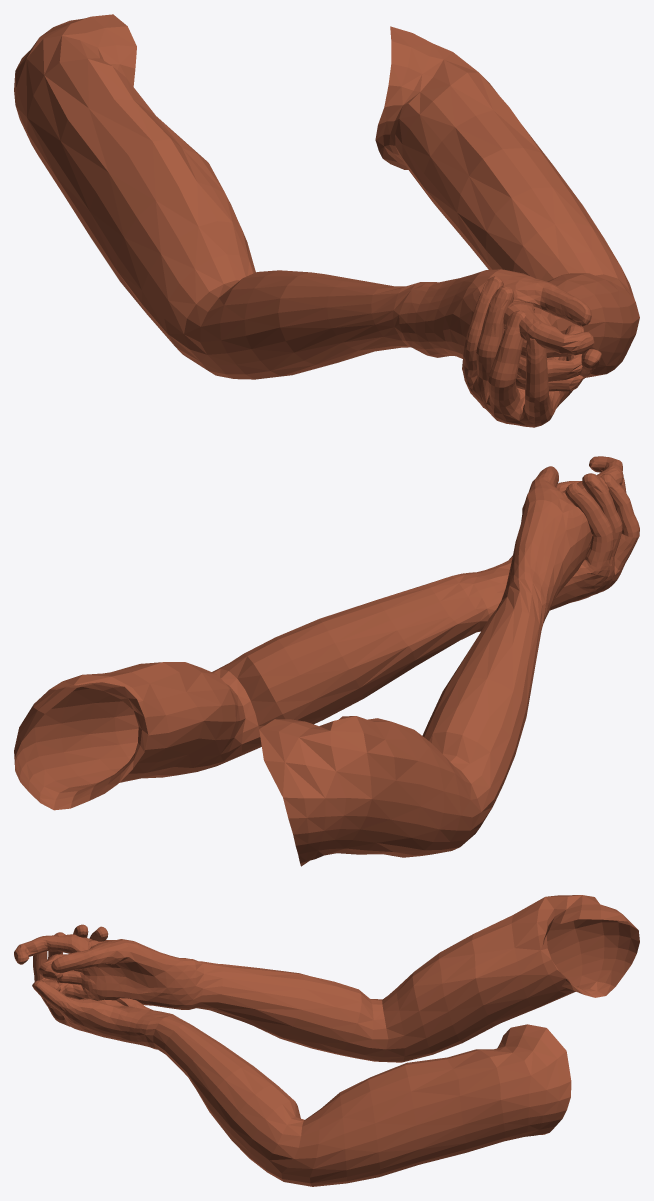
Rendered from Aim.obj.
3 views of the same model, one above another, from view 1: azimuth 30°, elevation 25°; view 2: azimuth 150°, elevation 25°; view 3: azimuth 270°, elevation 25° (orthographic). The views are drawn at different scales.
Visible parts, largest first — view 1: Körper_Cube.002; view 2: Körper_Cube.002; view 3: Körper_Cube.002.
Boxes of the visible parts, bbox=[...] form: Körper_Cube.002: bbox=[14, 14, 639, 427]; Körper_Cube.002: bbox=[14, 456, 639, 866]; Körper_Cube.002: bbox=[14, 895, 639, 1186].
Bounding box in the file's own units: 17.15 × 10.04 × 31.91.
